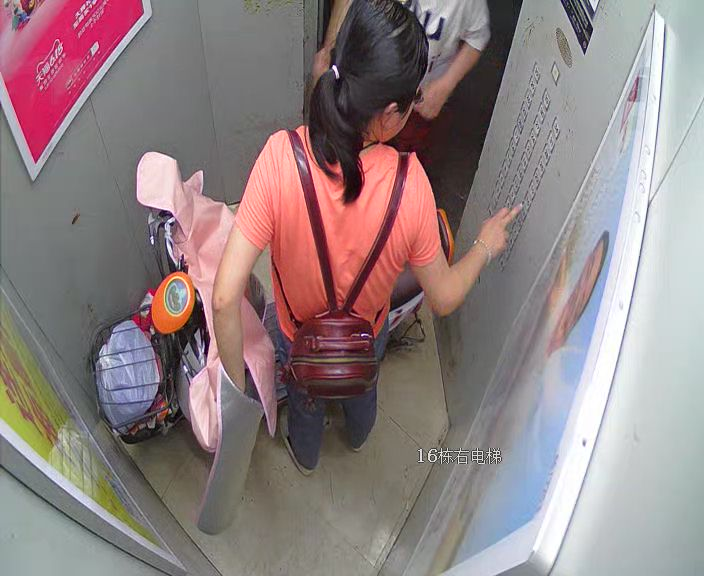Electric-bicycle: (92, 152, 454, 444)
